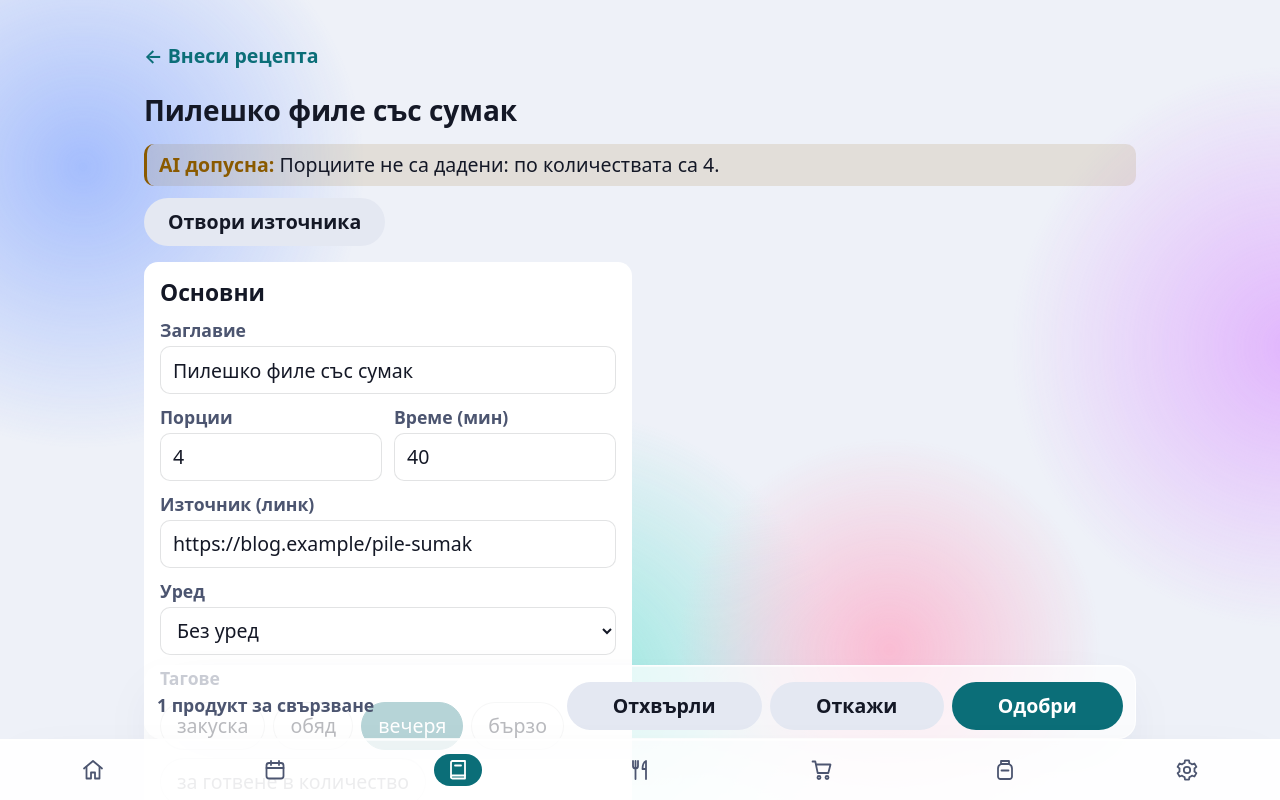
ImportScreen › „Отхвърли“ връща към „Внеси рецепта“ с toast „Отхвърлено · Върни“; „Върни“ отваря пак прегледа
Expected: the field labelled "Заглавие" is shown, [160, 346, 616, 394]
Click the button "Отхвърли".
click(664, 706)  # box [566, 682, 762, 730]
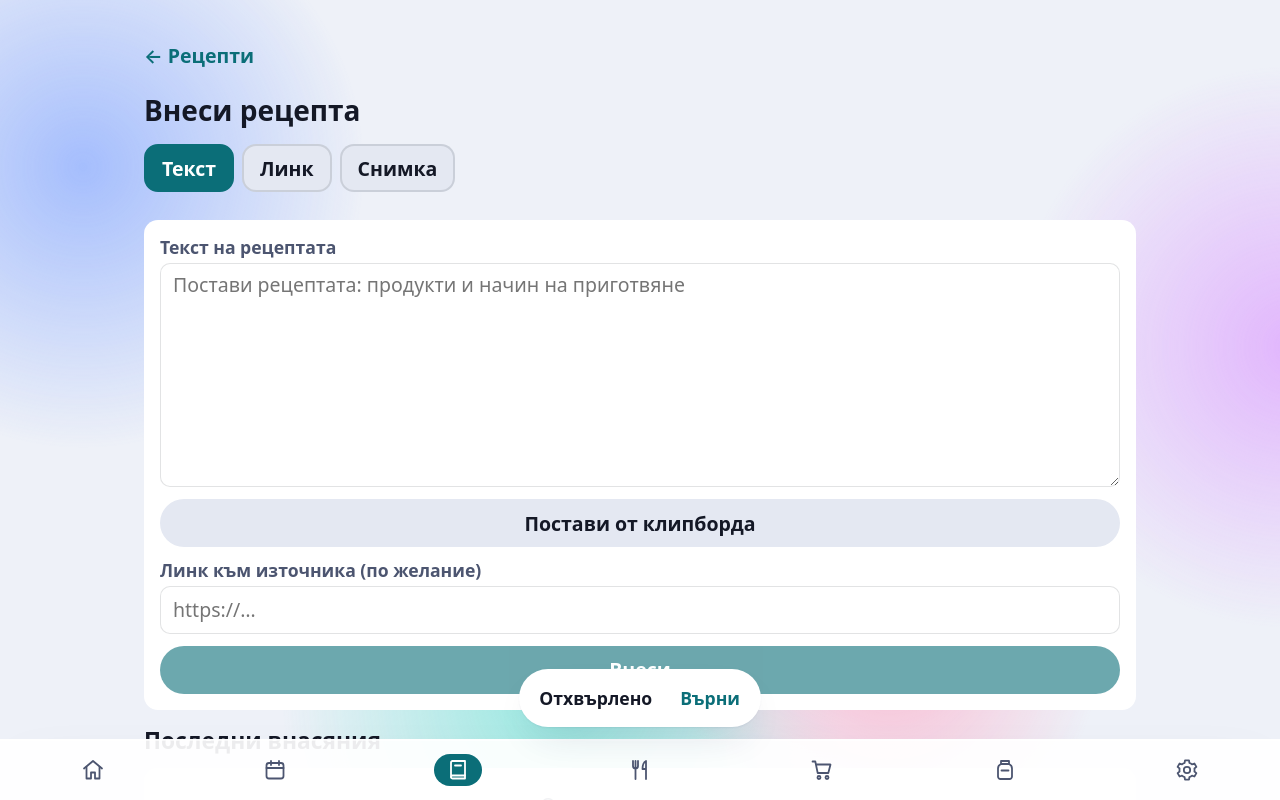
Now the heading "Внеси рецепта" is shown, box [144, 91, 360, 129]
Click the button "Върни".
click(710, 698)  # box [664, 674, 756, 722]
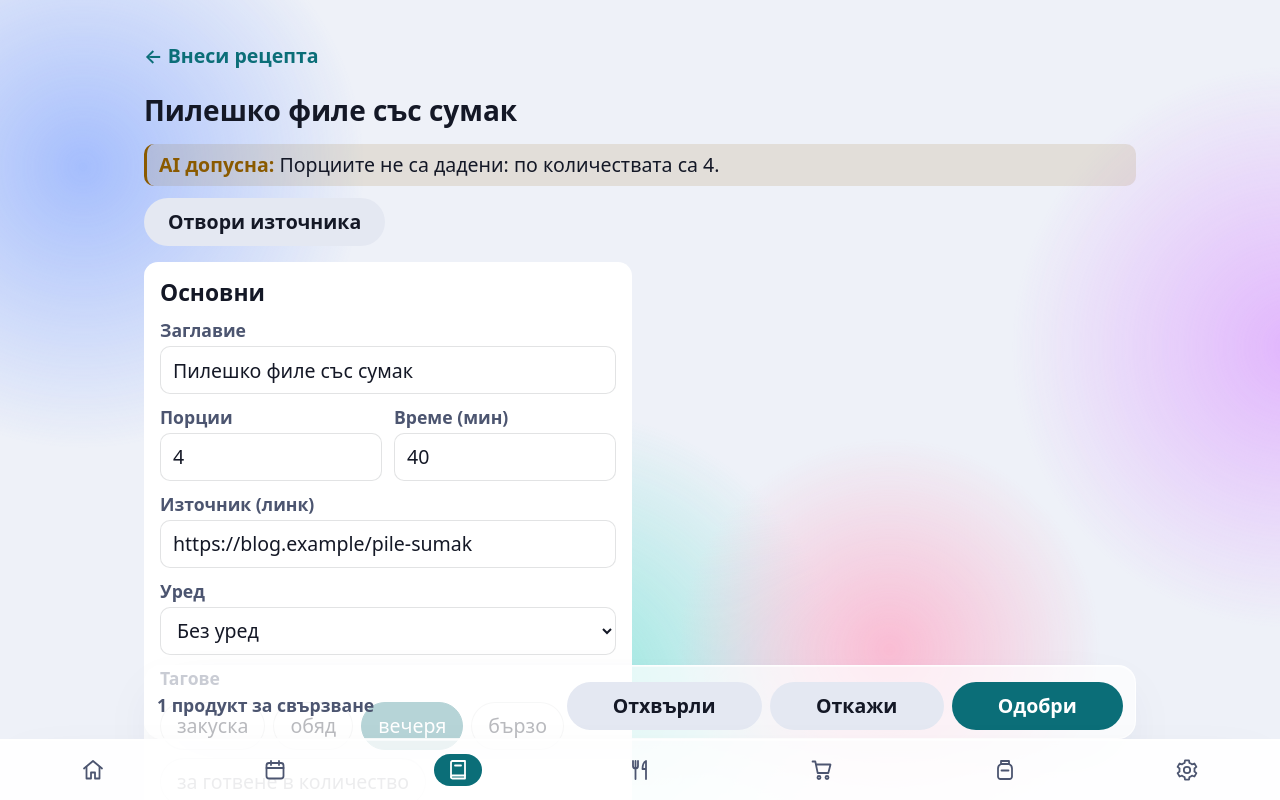
Now the field labelled "Заглавие" holds "Пилешко филе със сумак", box [160, 346, 616, 394]
